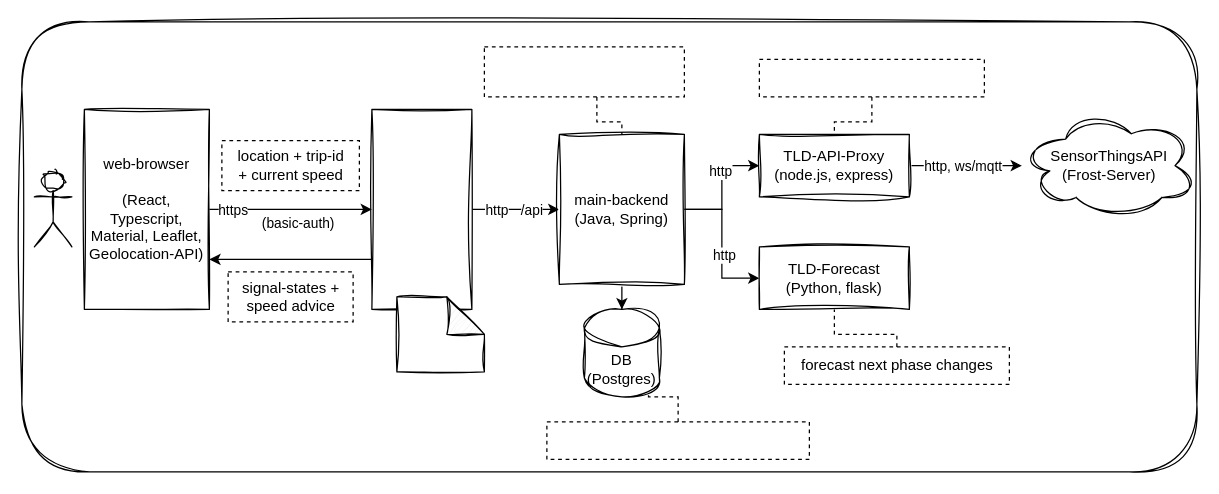
This 1219x494 diagram has some shape labels left out. The centre of each missing label's shape, as x and y in pixels:
"determine next traffic-light, calculate speed advice" belongs at [583,71].
"html / js / css" belongs at [440,334].
"query last known observations" belongs at [871,77].
"reverse-proxy / static-file-server (nginx)" belongs at [421,208].
"routes, trips, traffic-lights, locations" belongs at [677,440].
